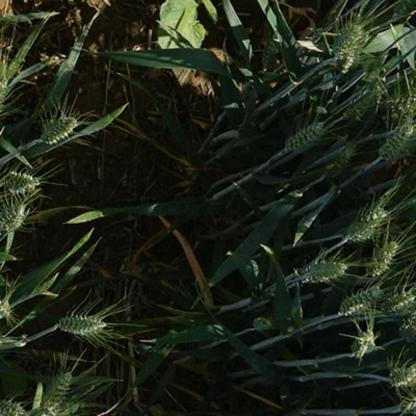whd: (32, 368, 74, 416), (340, 78, 383, 123), (282, 115, 330, 153), (343, 205, 389, 243), (337, 281, 385, 317), (378, 122, 416, 162), (57, 310, 109, 337), (324, 147, 362, 182), (38, 114, 80, 144), (1, 166, 42, 196), (365, 241, 399, 277), (332, 20, 364, 58), (0, 197, 31, 233), (301, 260, 349, 282), (348, 325, 379, 359), (385, 359, 416, 390), (334, 44, 362, 78), (383, 289, 414, 316), (386, 97, 406, 118)
